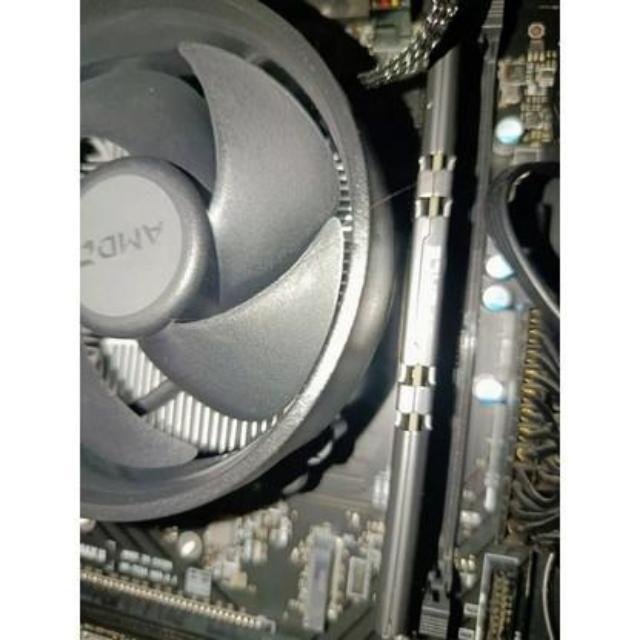CPU_Fan: (44, 0, 387, 526)
